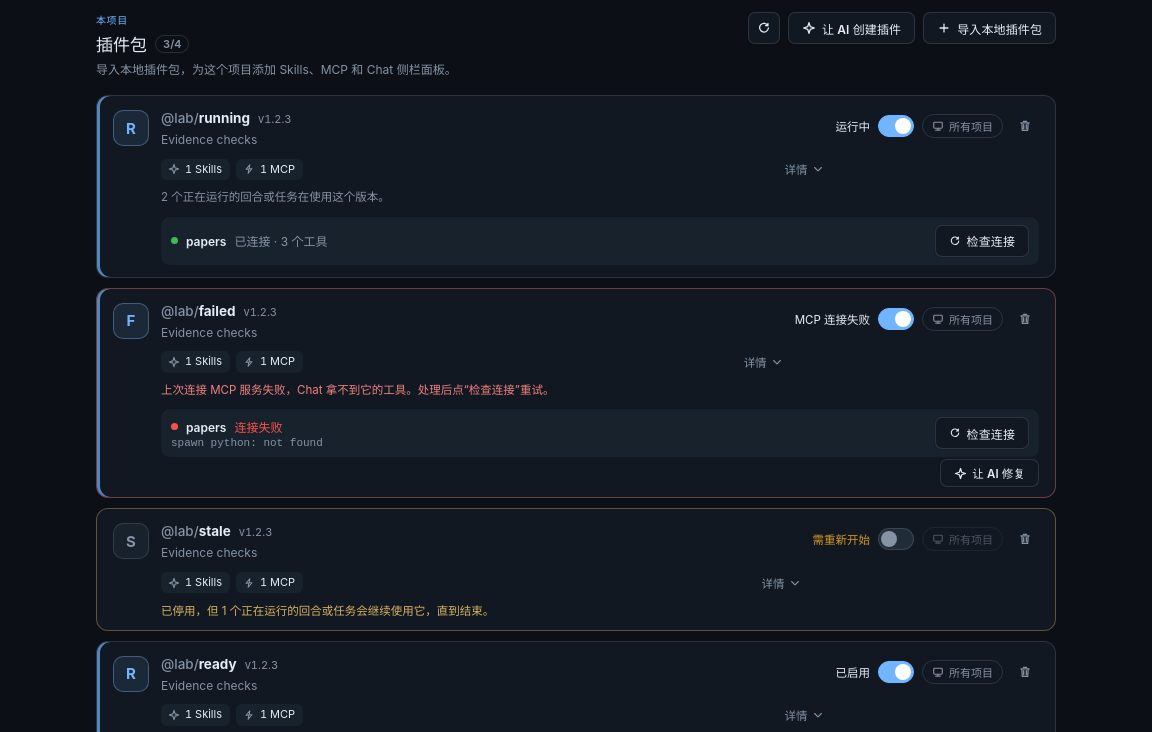
Test: Plugin packages › keeps running, failed and restart-needed apart and shows each MCP server's real health
Expected: the text "运行中" is shown, [836,118,870,134]
Expected: the text "2 个正在运行的回合或任务在使用这个版本。" is shown, [161,190,390,204]
// A connection check runs the real discovery and only holds its own card.
Step 1. Click the button "检查连接" in the row of "spawn python: not found" → (982, 433), box [934,417,1029,449]
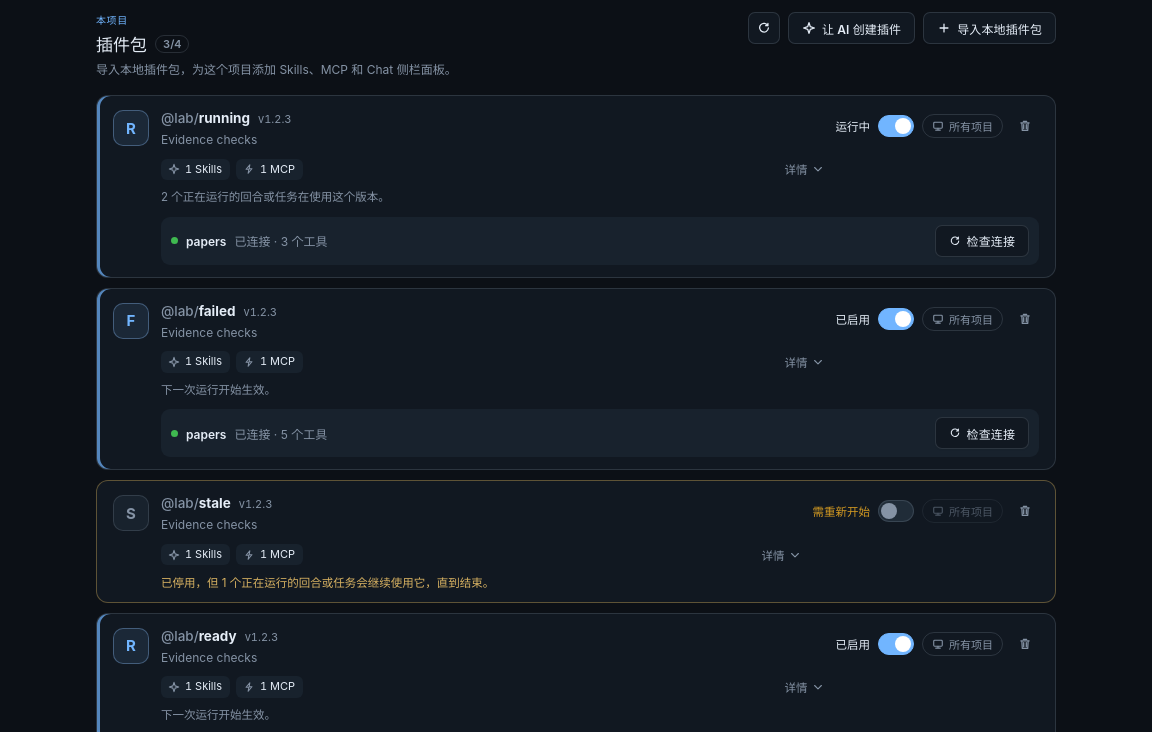
Result: the text "已连接 · 5 个工具" is shown at [234,425,327,442]
Result: the text "已启用" in the row of "failed" is shown at [836,313,870,327]
